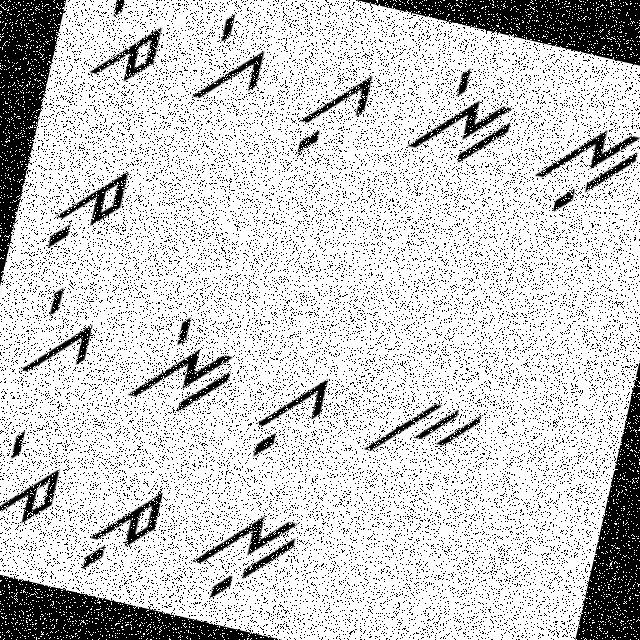ge: (181, 0, 278, 114), (13, 278, 108, 388)
gu: (281, 52, 380, 170), (243, 348, 336, 469)
nge: (396, 47, 531, 178), (121, 297, 246, 427)
ngu: (180, 488, 306, 614), (527, 99, 639, 231)
te: (0, 422, 76, 536), (84, 0, 174, 95)
tu: (70, 460, 182, 590), (30, 144, 142, 268)
